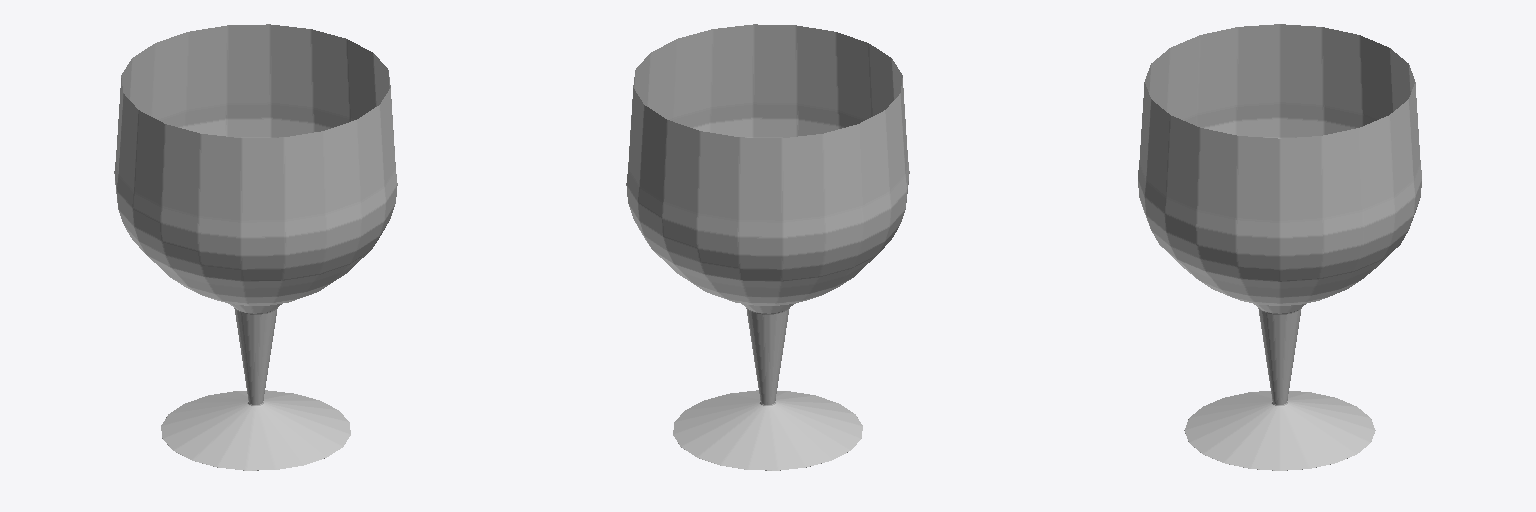
The model's file is cup.obj.
3 renders of one model, left to right at view 1: azimuth 30°, elevation 25°; view 2: azimuth 150°, elevation 25°; view 3: azimuth 270°, elevation 25°, orthographic.
Visible parts, largest first — view 1: cup; view 2: cup; view 3: cup.
Part boxes in pixels (bbox=[...]): cup: bbox=[114, 24, 397, 470]; cup: bbox=[626, 24, 909, 470]; cup: bbox=[1138, 24, 1421, 470].
Bounding box in the file's own units: 0.2775 × 0.3755 × 0.2775.